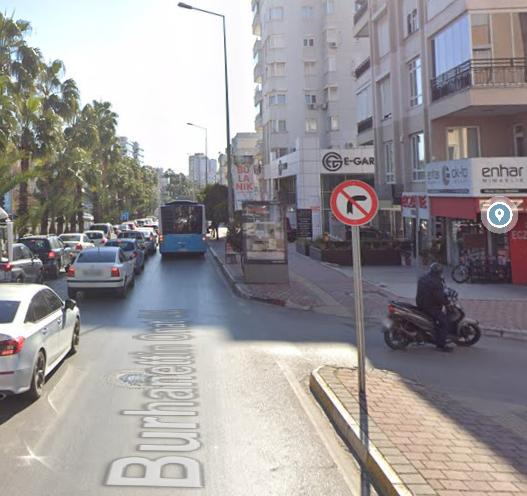leftturnsareforbidden: (330, 180, 381, 227)
